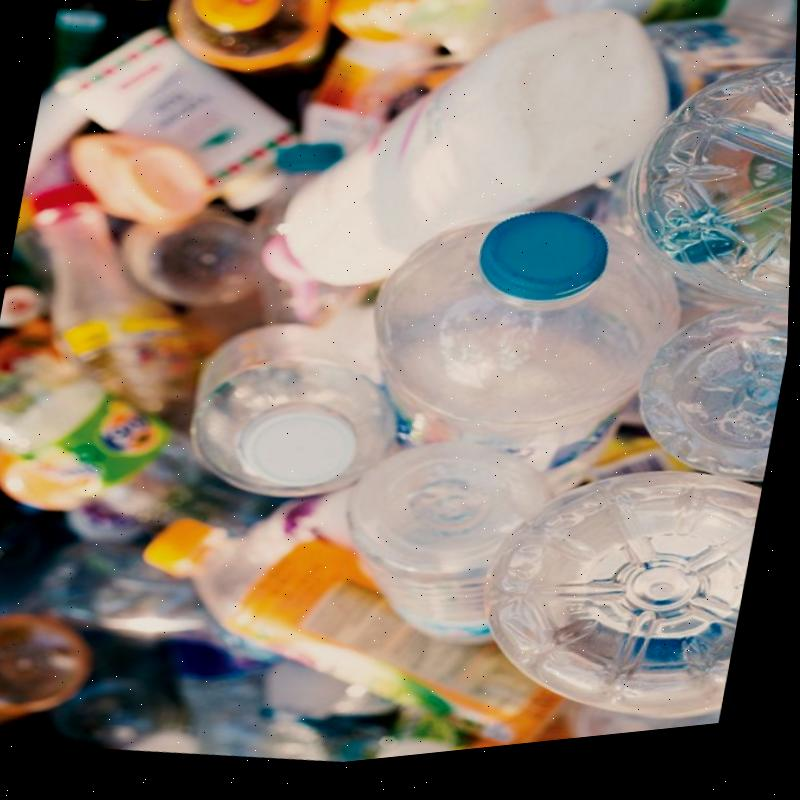botella: (110, 483, 591, 789), (342, 184, 676, 511), (469, 452, 768, 760), (0, 330, 298, 569), (577, 52, 797, 351), (320, 426, 569, 682), (177, 314, 414, 525), (613, 305, 791, 507), (136, 0, 344, 107)
